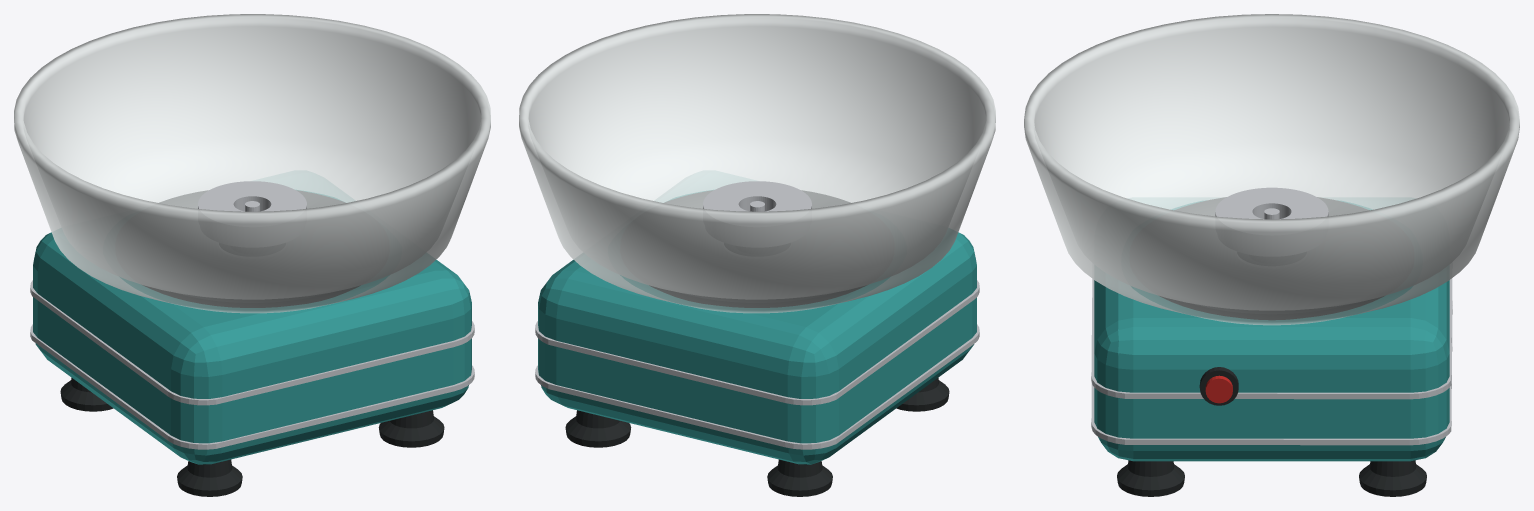
File: A-NEW-20261026-COTTON-CANDY-MACHINE-001_LOD1_R3.fbx
The picture shows the model from 3 angles, left to right: view 1: azimuth 30°, elevation 25°; view 2: azimuth 150°, elevation 25°; view 3: azimuth 270°, elevation 25°; orthographic projection. The views are drawn at different scales.
Visible parts, largest first — view 1: open milky bowl with complete inner wall, rounded housing, continuous silver band 0.037, continuous silver band 0.063, extractor rim and circular well, bowl support seat, splayed suction style foot -0.062 -0.062, splayed suction style foot 0.062 -0.062, splayed suction style foot -0.062 0.062; view 2: open milky bowl with complete inner wall, rounded housing, continuous silver band 0.037, continuous silver band 0.063, extractor rim and circular well, bowl support seat, splayed suction style foot -0.062 0.062, splayed suction style foot 0.062 0.062, splayed suction style foot -0.062 -0.062; view 3: open milky bowl with complete inner wall, rounded housing, continuous silver band 0.063, continuous silver band 0.037, extractor rim and circular well, bowl support seat, splayed suction style foot 0.062 -0.062, splayed suction style foot 0.062 0.062, right switch mounting rim, red rounded rocker cue.
Boxes of the visible parts, box(x1,y1,x2,y2) form: open milky bowl with complete inner wall: box(14, 14, 490, 313); rounded housing: box(33, 189, 471, 464); continuous silver band 0.037: box(30, 324, 474, 449); continuous silver band 0.063: box(30, 280, 474, 405); extractor rim and circular well: box(198, 181, 306, 211); bowl support seat: box(143, 190, 358, 307); splayed suction style foot -0.062 -0.062: box(177, 459, 242, 496); splayed suction style foot 0.062 -0.062: box(378, 410, 444, 447); splayed suction style foot -0.062 0.062: box(60, 377, 113, 411); open milky bowl with complete inner wall: box(519, 14, 995, 313); rounded housing: box(538, 189, 976, 464); continuous silver band 0.037: box(535, 324, 979, 449); continuous silver band 0.063: box(535, 280, 979, 405); extractor rim and circular well: box(703, 181, 811, 211); bowl support seat: box(651, 190, 866, 307); splayed suction style foot -0.062 0.062: box(767, 459, 832, 496); splayed suction style foot 0.062 0.062: box(565, 410, 631, 447); splayed suction style foot -0.062 -0.062: box(896, 377, 949, 411); open milky bowl with complete inner wall: box(1024, 14, 1519, 325); rounded housing: box(1094, 200, 1449, 461); continuous silver band 0.063: box(1091, 278, 1452, 399); continuous silver band 0.037: box(1091, 305, 1452, 445); extractor rim and circular well: box(1215, 187, 1328, 219); bowl support seat: box(1160, 197, 1383, 319); splayed suction style foot 0.062 -0.062: box(1117, 460, 1184, 496); splayed suction style foot 0.062 0.062: box(1359, 460, 1426, 496); right switch mounting rim: box(1199, 367, 1238, 405); red rounded rocker cue: box(1205, 375, 1232, 403).
Size of the model in its own units: 25.4 by 17.7 by 25.4.
